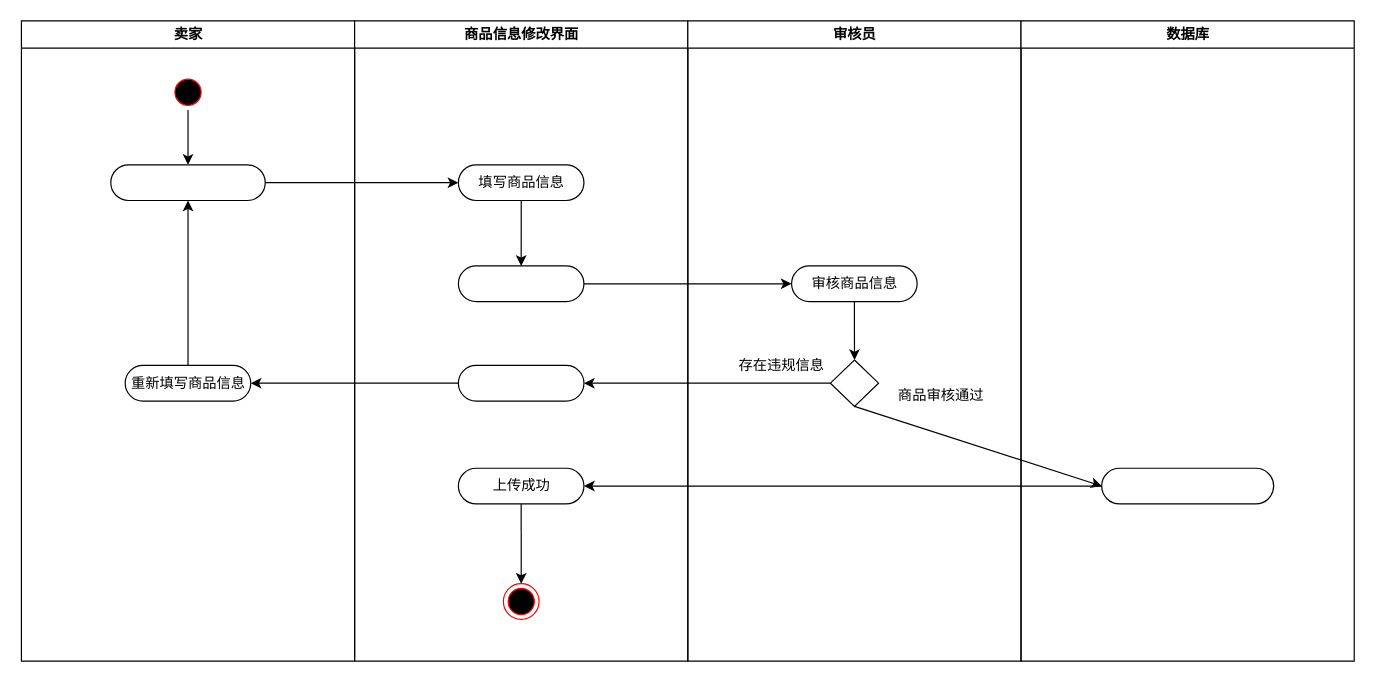
The diagram is 1374 pixels wide and 682 high, and some of its shapes have lost their labels. Each missing label, with the centre of its shape:
"审核不通过" goes at [520,382].
"将商品信息写入数据库" goes at [1187,485].
"点击上传按钮" goes at [520,283].
"点击商品信息修改按钮" goes at [187,182].
